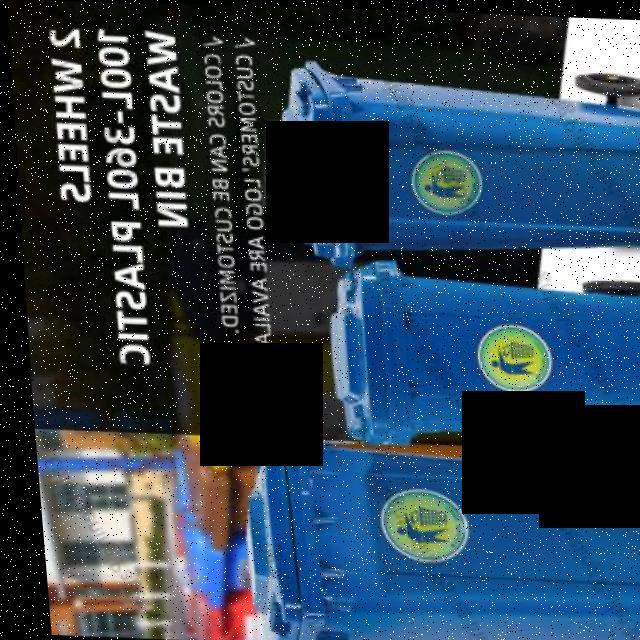bin: (221, 414, 640, 640), (260, 48, 640, 280), (312, 251, 640, 464)
